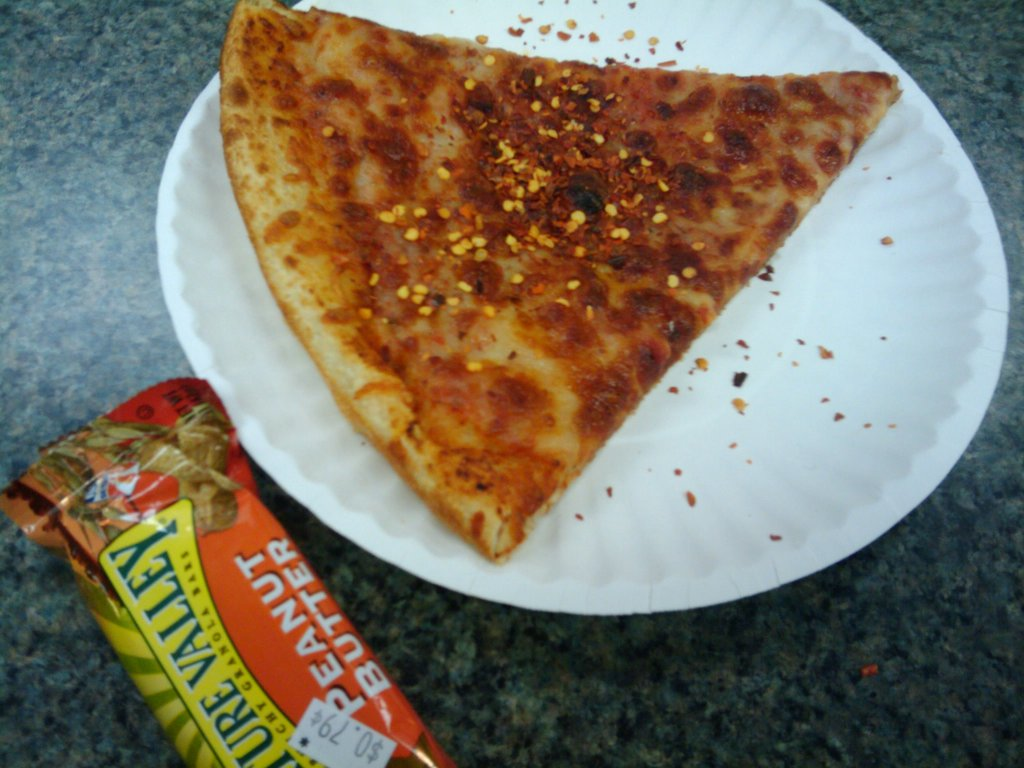Pizza: (239, 3, 922, 561)
